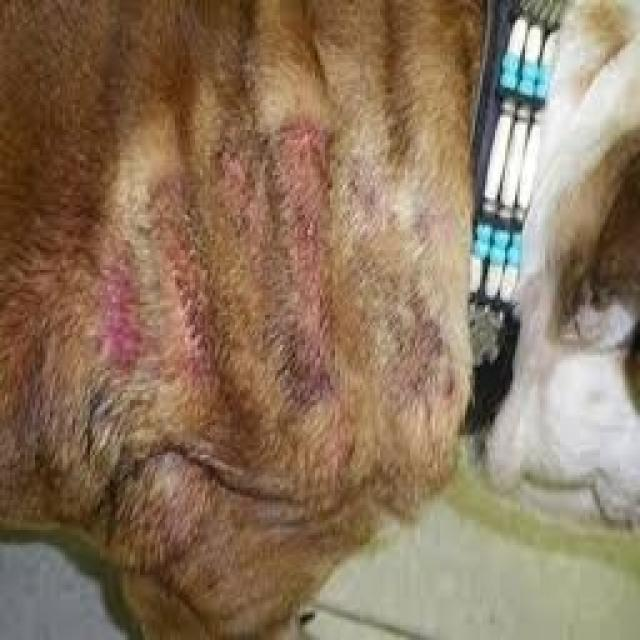hotspot: (274, 127, 331, 334), (161, 202, 208, 354), (99, 268, 138, 355)
